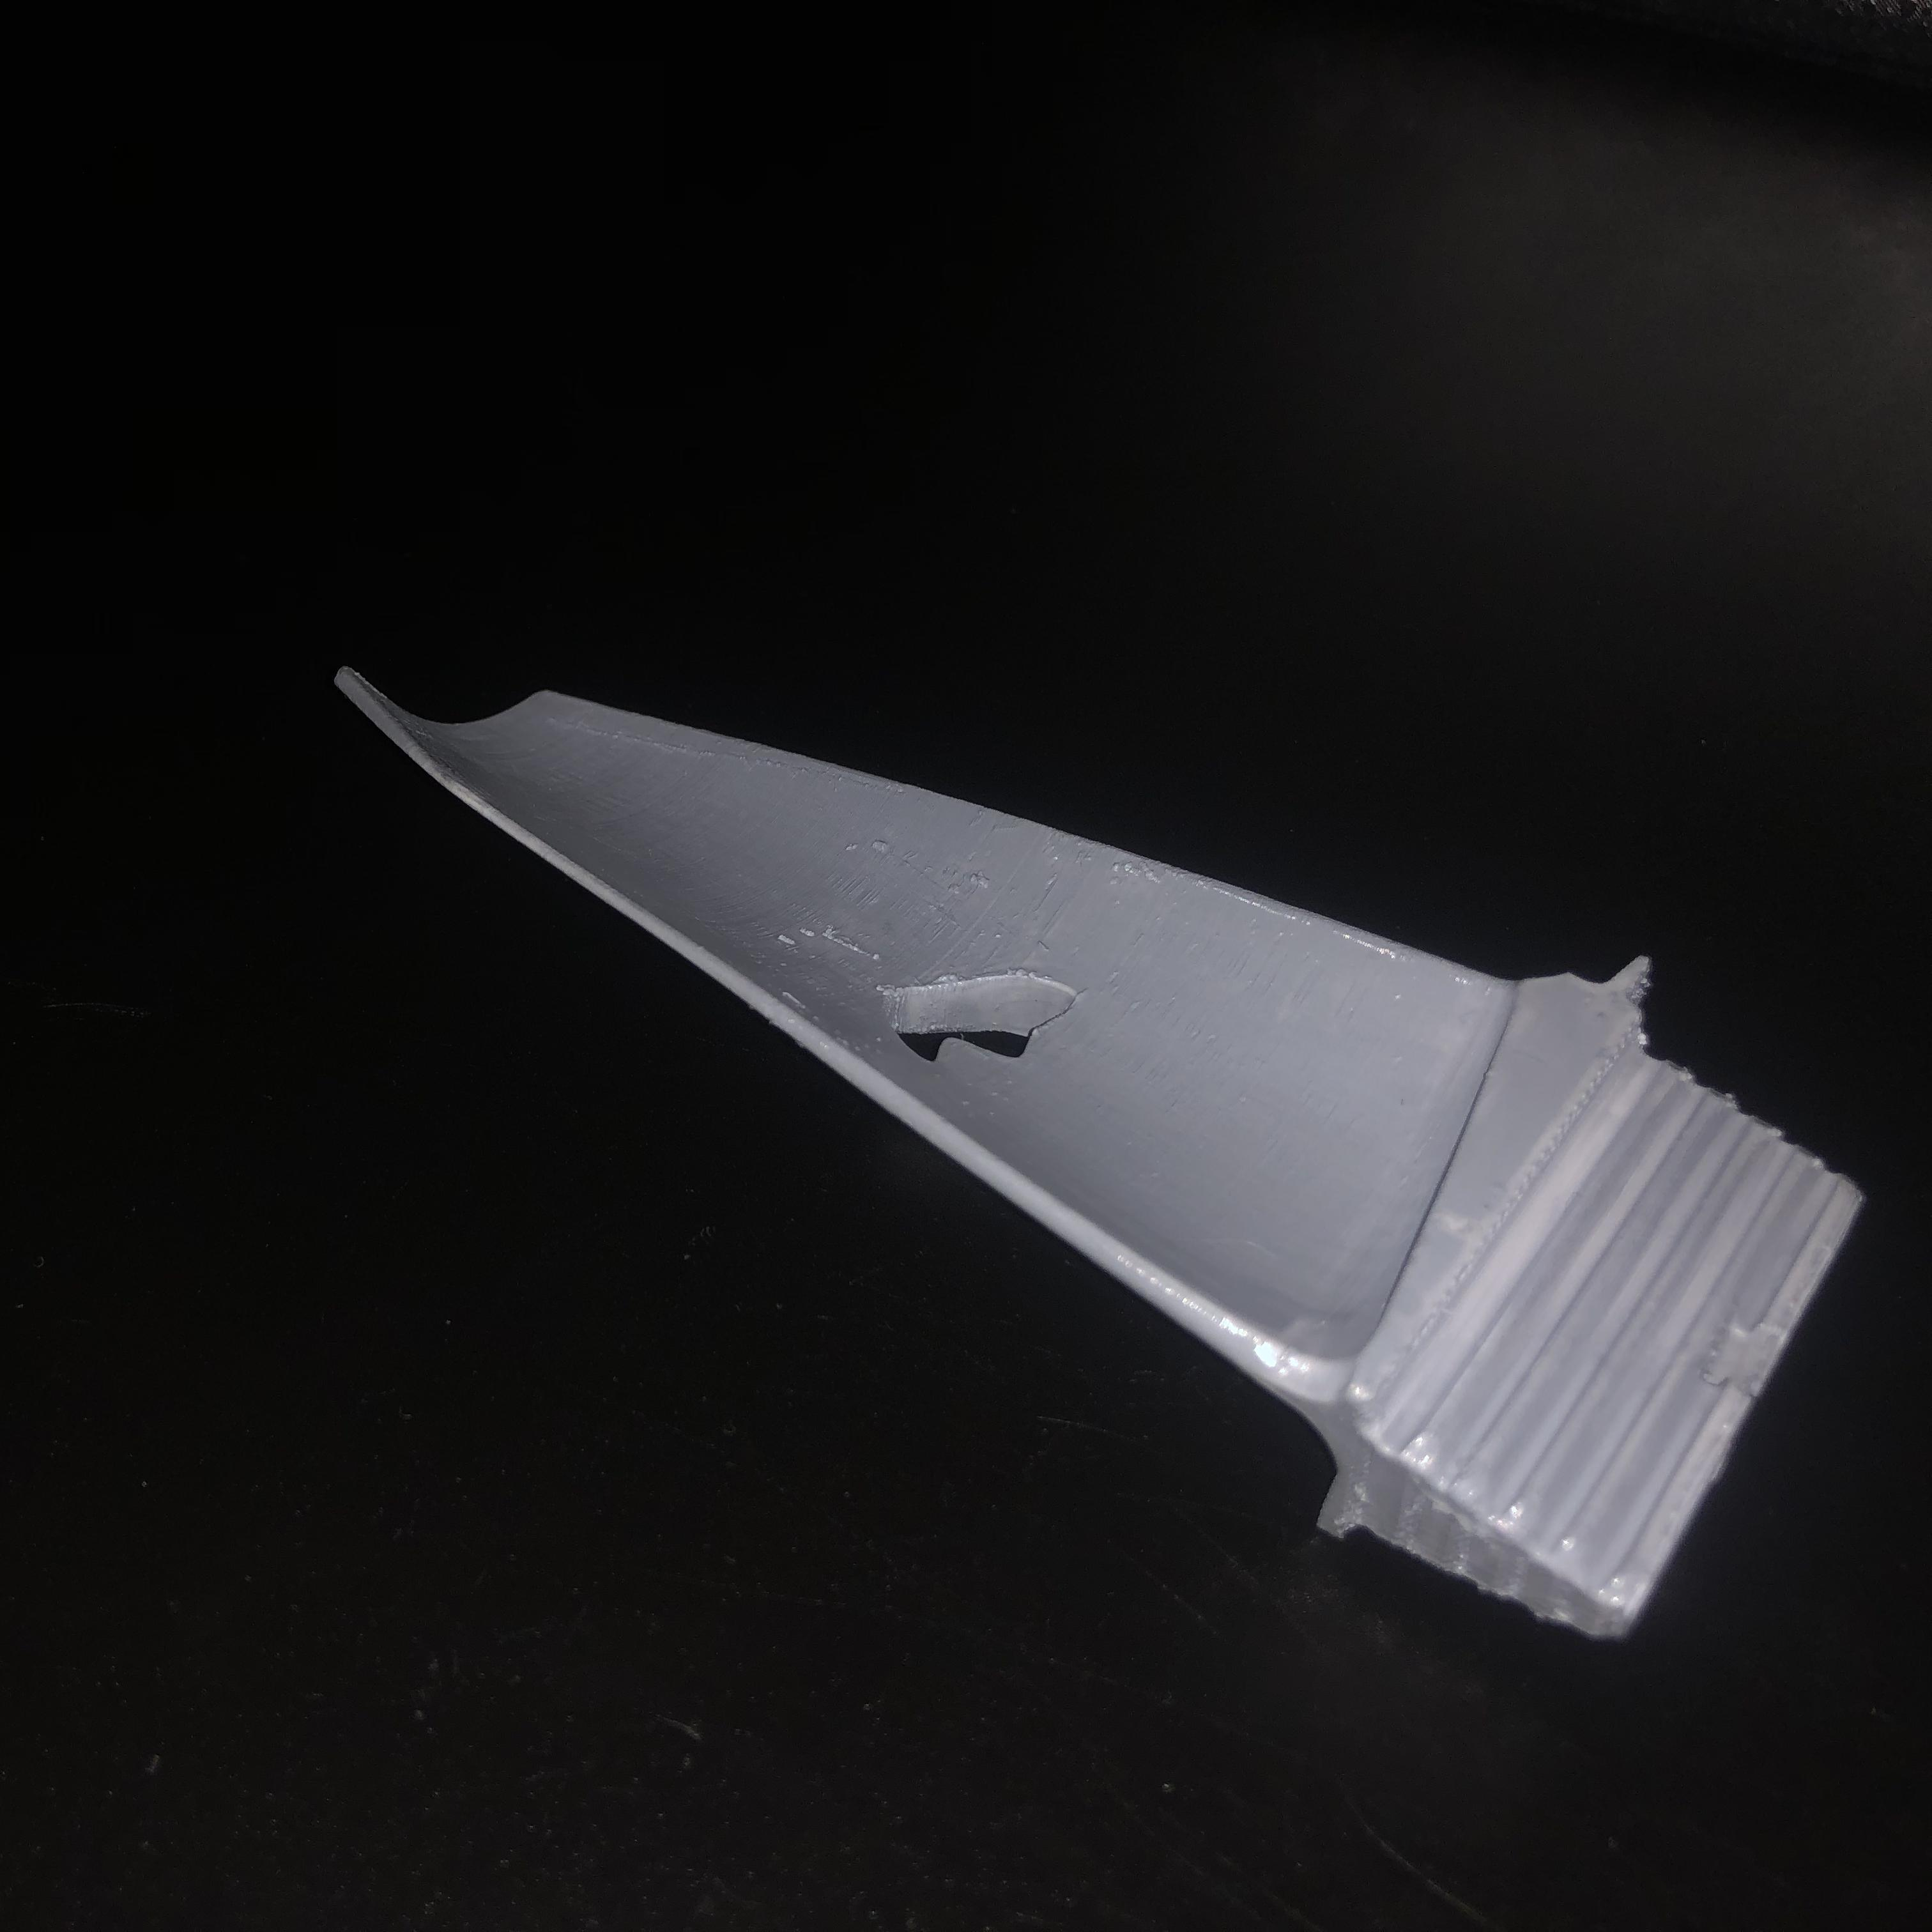breakdown: (867, 977, 1095, 1069)
